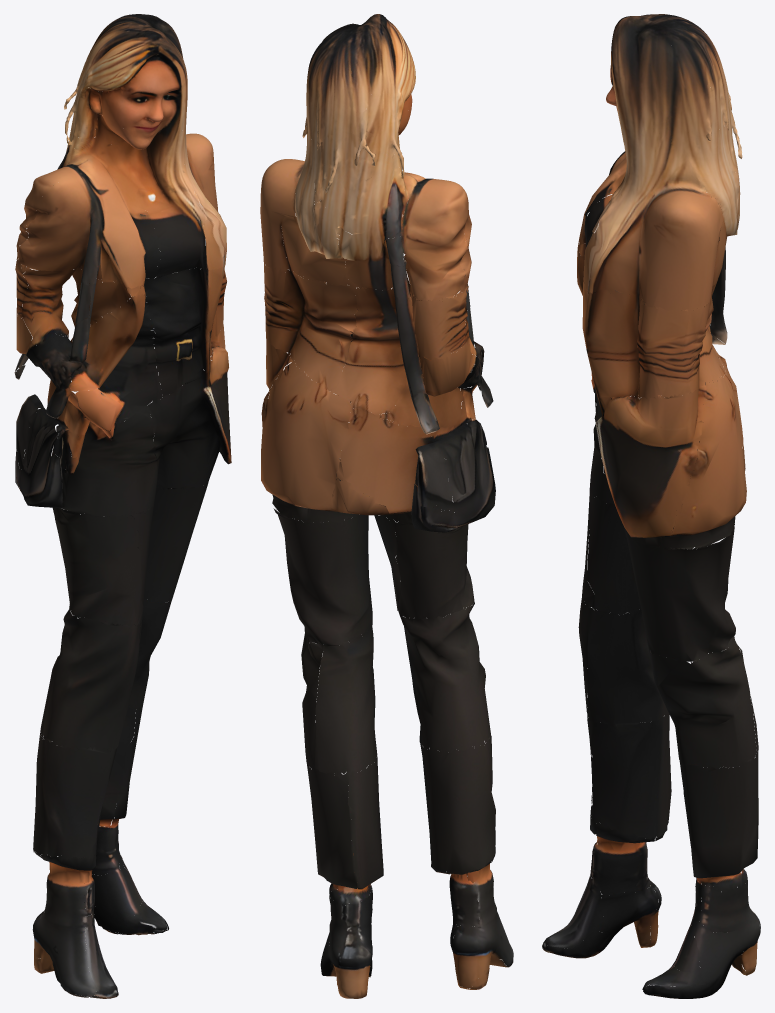
File: catia-30000.glb
3 renders of one model, left to right at view 1: azimuth 30°, elevation 25°; view 2: azimuth 150°, elevation 25°; view 3: azimuth 270°, elevation 25°, orthographic. The views are drawn at different scales.
Visible parts, largest first — view 1: tripo_node_6ca9ce25-2619-43d1-ad54-76d2a85b6c38; view 2: tripo_node_6ca9ce25-2619-43d1-ad54-76d2a85b6c38; view 3: tripo_node_6ca9ce25-2619-43d1-ad54-76d2a85b6c38.
Boxes of the visible parts, <box> form: tripo_node_6ca9ce25-2619-43d1-ad54-76d2a85b6c38: <box>14,14,231,998</box>; tripo_node_6ca9ce25-2619-43d1-ad54-76d2a85b6c38: <box>260,14,513,998</box>; tripo_node_6ca9ce25-2619-43d1-ad54-76d2a85b6c38: <box>542,14,760,998</box>.
Size of the model in its own units: 0.4047 by 1.75 by 0.3554.
1 material, 1 textured.
